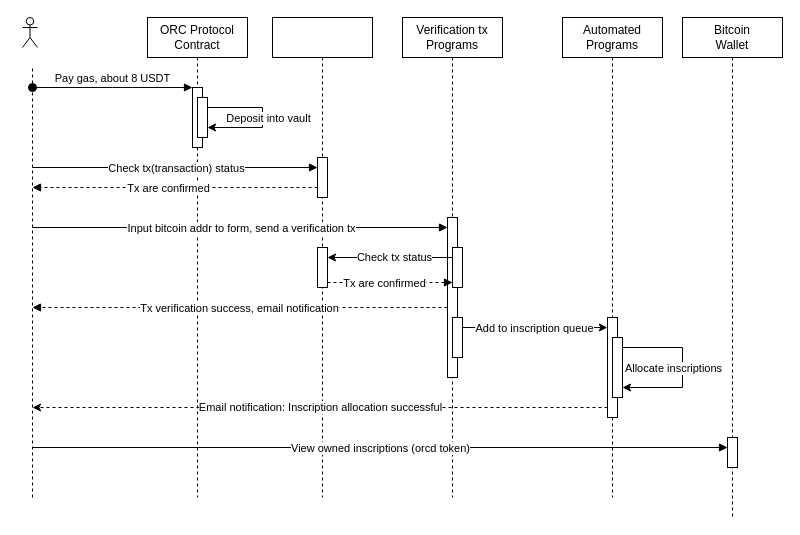
Image size: 800x535. Some labels were removed from this diagram. The centre of each missing label's shape, as x and y in pixels:
Blockchain Explore: (322,257)
User: (30,32)
